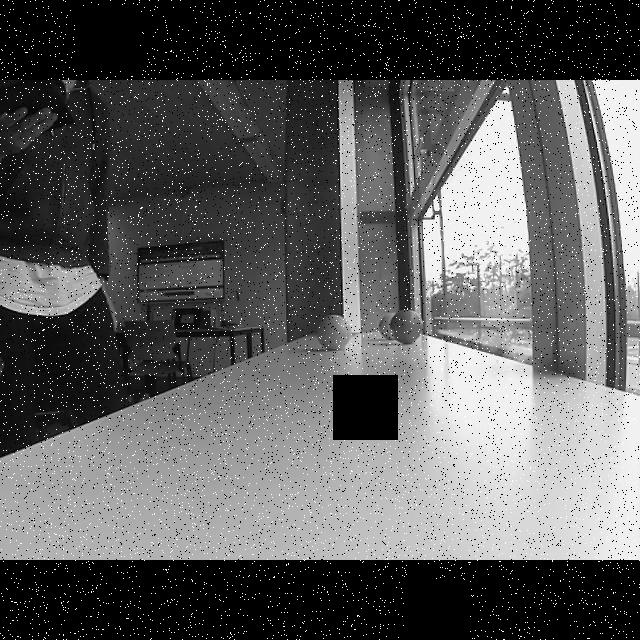ball: (315, 312, 355, 351), (392, 308, 426, 346)
